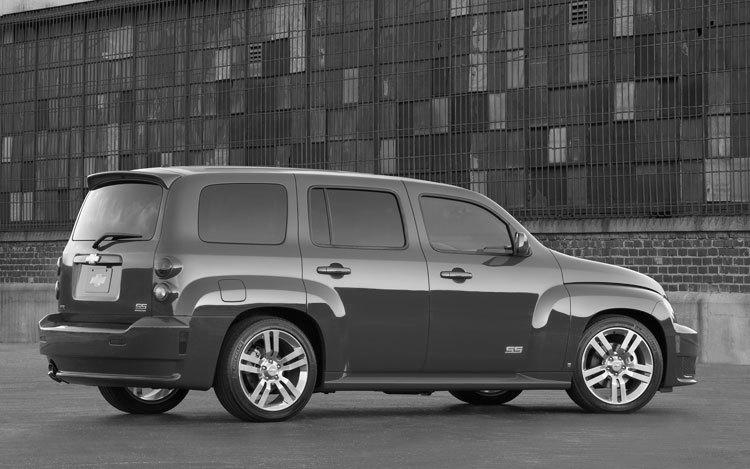car: (34, 162, 703, 428)
